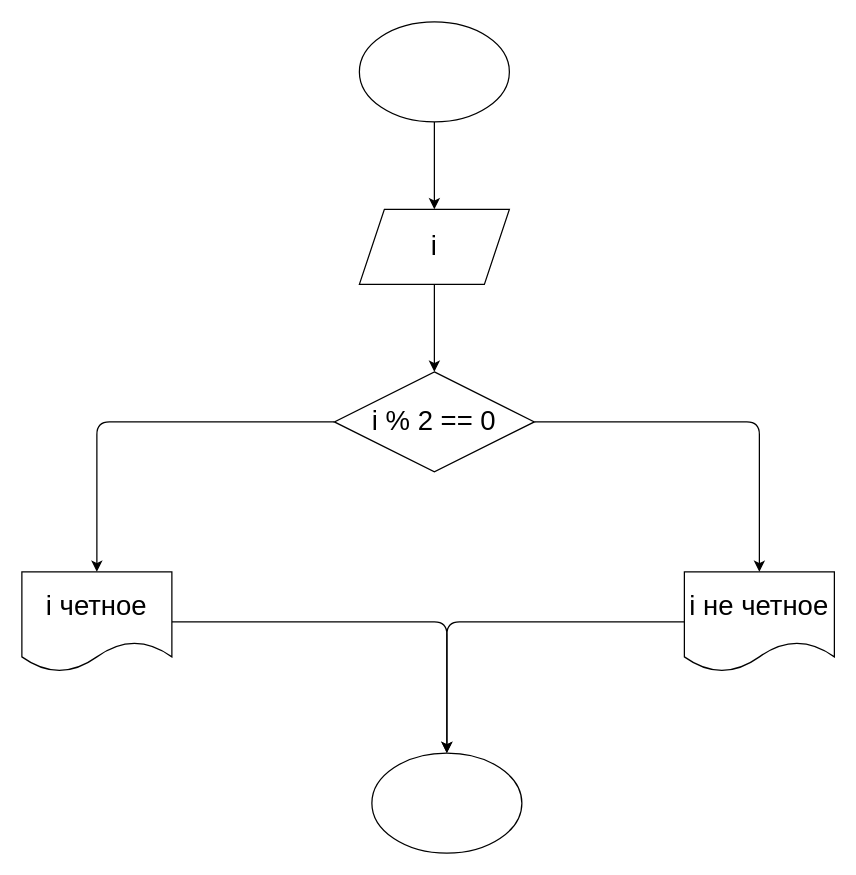
The diagram is 856 pixels wide and 875 high, and some of its shapes have lost their labels. Each missing label, with the centre of its shape:
"end" belongs at pixel 446 802.
"start" belongs at pixel 433 71.
